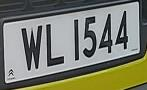1: (70, 14, 84, 62)
4: (98, 6, 114, 60), (114, 4, 130, 56)
5: (80, 9, 99, 62)
L: (43, 19, 67, 69)
W: (22, 21, 44, 72)
